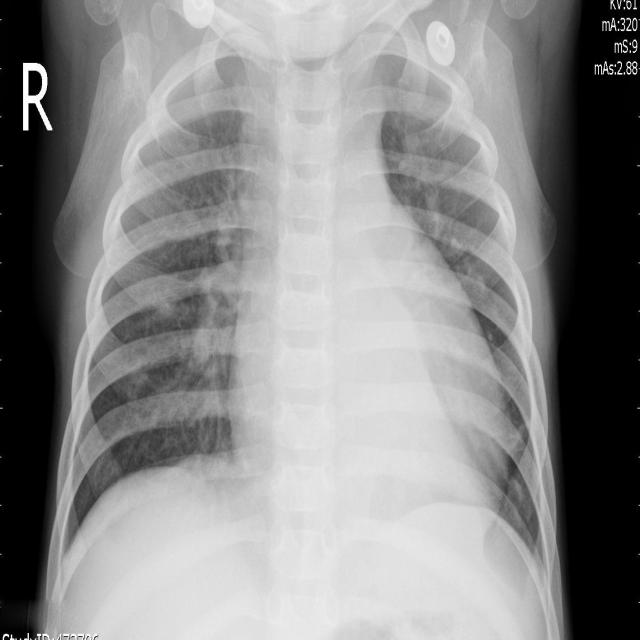low-pneumonia: (199, 188, 247, 369)
